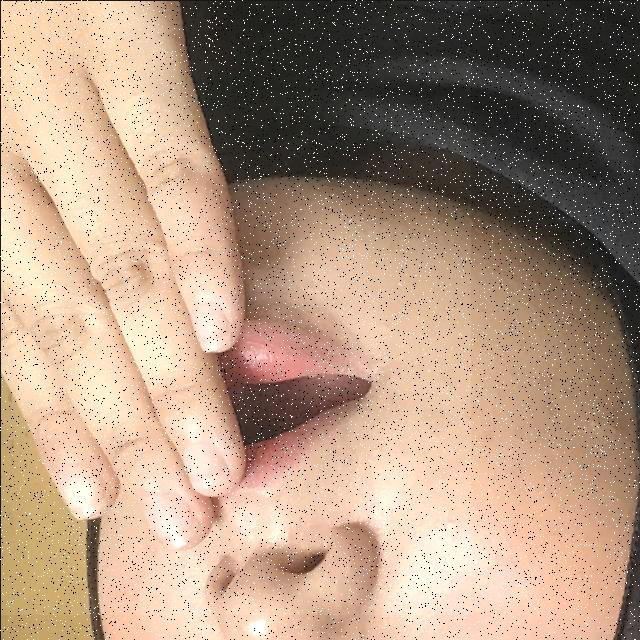ngantuk: (0, 0, 470, 614)
